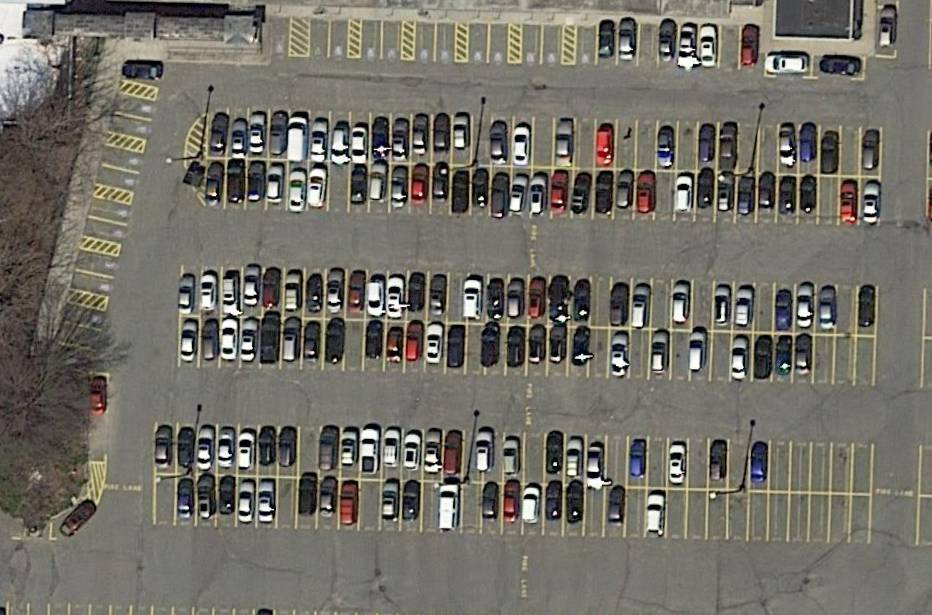small vehicle: (58, 498, 99, 539), (260, 315, 281, 364), (548, 277, 570, 323), (438, 484, 459, 532), (506, 175, 531, 215), (569, 174, 593, 215), (288, 116, 309, 161), (611, 332, 631, 378), (361, 428, 380, 476), (821, 55, 862, 77), (326, 319, 346, 364), (766, 54, 810, 74), (282, 318, 302, 362), (198, 474, 217, 520), (318, 428, 339, 469), (546, 432, 566, 475), (731, 338, 750, 383), (242, 266, 263, 306), (424, 324, 445, 364), (347, 272, 367, 314), (241, 319, 260, 363), (227, 160, 246, 204), (238, 482, 257, 526), (327, 269, 346, 313), (557, 121, 575, 167), (179, 322, 199, 363), (646, 495, 666, 536), (491, 175, 510, 218), (424, 431, 443, 474), (341, 481, 359, 526), (288, 172, 308, 212), (475, 431, 495, 471), (678, 26, 697, 68), (840, 183, 859, 225), (210, 113, 229, 155), (481, 324, 500, 366), (446, 326, 465, 368), (858, 286, 877, 328), (573, 280, 592, 322), (797, 285, 815, 329), (636, 173, 656, 212), (200, 320, 219, 361), (864, 183, 883, 224), (249, 113, 268, 154), (387, 277, 406, 318), (713, 286, 732, 327), (586, 446, 604, 489), (741, 27, 760, 67), (220, 320, 239, 360), (369, 163, 389, 201), (595, 173, 614, 213), (218, 476, 237, 516), (257, 427, 277, 465), (278, 427, 297, 467), (365, 321, 385, 359), (177, 479, 195, 521), (755, 337, 773, 379), (633, 286, 651, 328), (259, 481, 276, 525), (262, 269, 281, 308), (821, 135, 840, 174), (177, 277, 196, 316), (412, 166, 431, 205), (523, 486, 542, 525), (566, 439, 585, 478), (429, 277, 448, 316), (199, 274, 219, 311), (779, 125, 797, 166), (490, 124, 508, 165), (507, 327, 525, 368), (689, 332, 707, 373), (446, 431, 462, 477), (660, 19, 677, 62), (207, 164, 224, 207), (552, 172, 569, 215), (453, 172, 470, 215), (156, 426, 173, 469), (652, 332, 669, 375), (717, 173, 736, 211), (738, 177, 757, 215), (862, 131, 881, 169), (675, 175, 694, 213), (513, 128, 532, 166), (657, 130, 675, 170), (284, 275, 304, 311), (472, 169, 490, 209), (391, 168, 409, 208), (299, 476, 317, 516), (669, 444, 687, 484), (487, 280, 505, 320), (611, 284, 629, 324), (673, 283, 691, 323), (312, 121, 329, 163), (198, 428, 215, 470), (321, 477, 338, 519), (752, 442, 769, 484), (309, 170, 328, 207), (616, 172, 635, 209), (545, 484, 564, 521), (628, 440, 647, 477), (408, 275, 427, 312), (549, 327, 568, 364), (779, 176, 797, 215), (372, 119, 390, 158), (248, 162, 266, 201), (332, 125, 350, 164), (270, 115, 288, 154), (596, 127, 614, 166), (531, 176, 549, 215), (433, 116, 451, 155), (566, 484, 584, 523), (710, 441, 728, 480), (528, 280, 546, 319), (464, 281, 482, 320), (405, 323, 423, 362), (367, 279, 385, 318), (820, 289, 838, 328), (620, 20, 637, 61), (122, 63, 163, 80), (433, 165, 451, 203), (305, 275, 324, 311), (503, 440, 521, 478), (573, 328, 591, 366), (267, 164, 284, 204), (392, 121, 409, 161), (483, 483, 500, 523), (701, 26, 717, 68), (697, 172, 715, 209), (699, 126, 717, 163), (599, 21, 617, 58), (351, 128, 369, 165), (350, 167, 368, 204), (404, 481, 421, 520), (776, 292, 793, 331), (796, 335, 812, 376), (89, 379, 107, 415), (528, 326, 546, 362), (881, 8, 898, 46), (304, 323, 321, 361), (454, 116, 473, 150), (384, 429, 401, 467), (178, 429, 195, 467), (736, 288, 753, 326), (504, 482, 520, 522), (759, 173, 777, 208), (719, 125, 737, 160), (404, 434, 421, 471), (239, 433, 256, 470), (414, 116, 430, 155), (232, 120, 248, 159), (219, 429, 235, 468), (777, 337, 793, 376), (341, 430, 358, 466), (223, 277, 239, 315), (508, 280, 524, 318), (800, 176, 817, 211), (387, 328, 404, 363), (801, 125, 817, 162), (610, 487, 624, 528)
